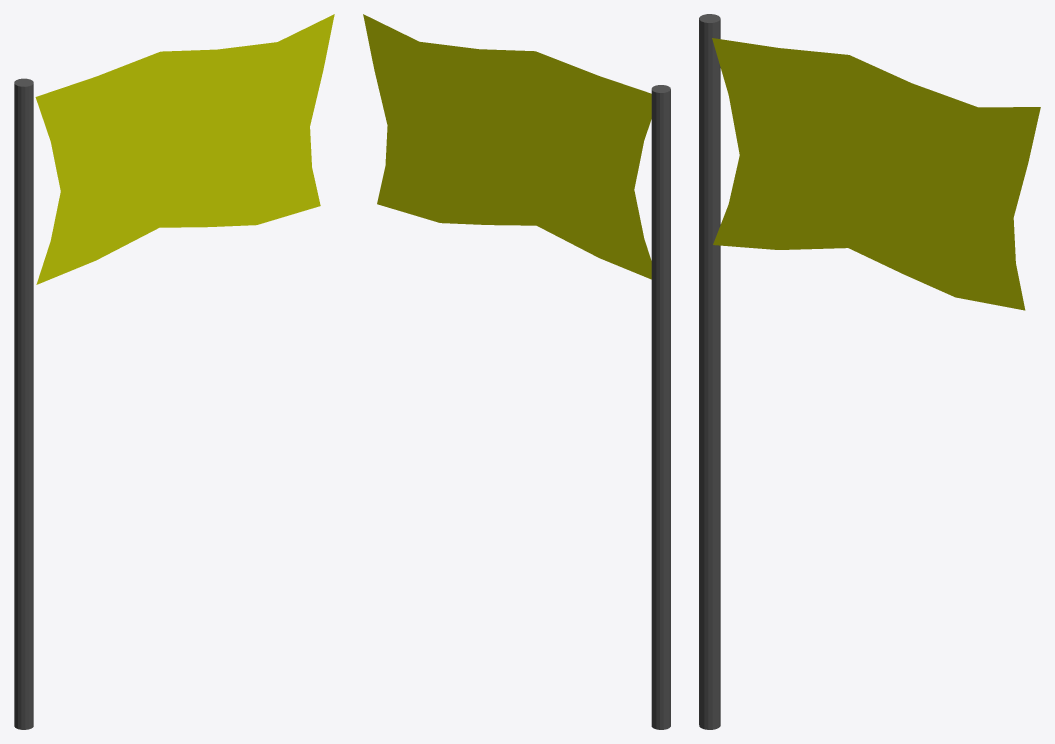
Rendered from flag.fbx.
3 views of the same model, side by side, from view 1: azimuth 30°, elevation 25°; view 2: azimuth 150°, elevation 25°; view 3: azimuth 330°, elevation 25° (orthographic). The views are drawn at different scales.
Parts seen in each view (by area): view 1: Plane, Cylinder; view 2: Plane, Cylinder; view 3: Plane, Cylinder.
Boxes of the visible parts, <box> form: Plane: <box>35,14,334,284</box>; Cylinder: <box>14,78,33,729</box>; Plane: <box>363,14,651,279</box>; Cylinder: <box>651,85,670,729</box>; Plane: <box>712,38,1040,310</box>; Cylinder: <box>699,14,720,729</box>.
Bounding box in the file's own units: 165 × 323 × 8.94.
